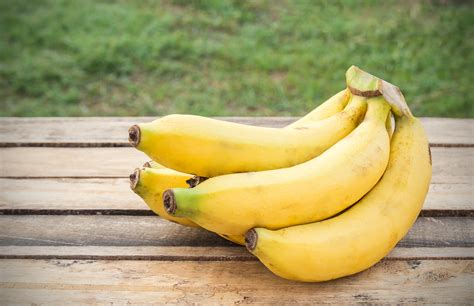banana: (165, 101, 395, 248), (246, 112, 436, 283), (125, 104, 363, 175)
